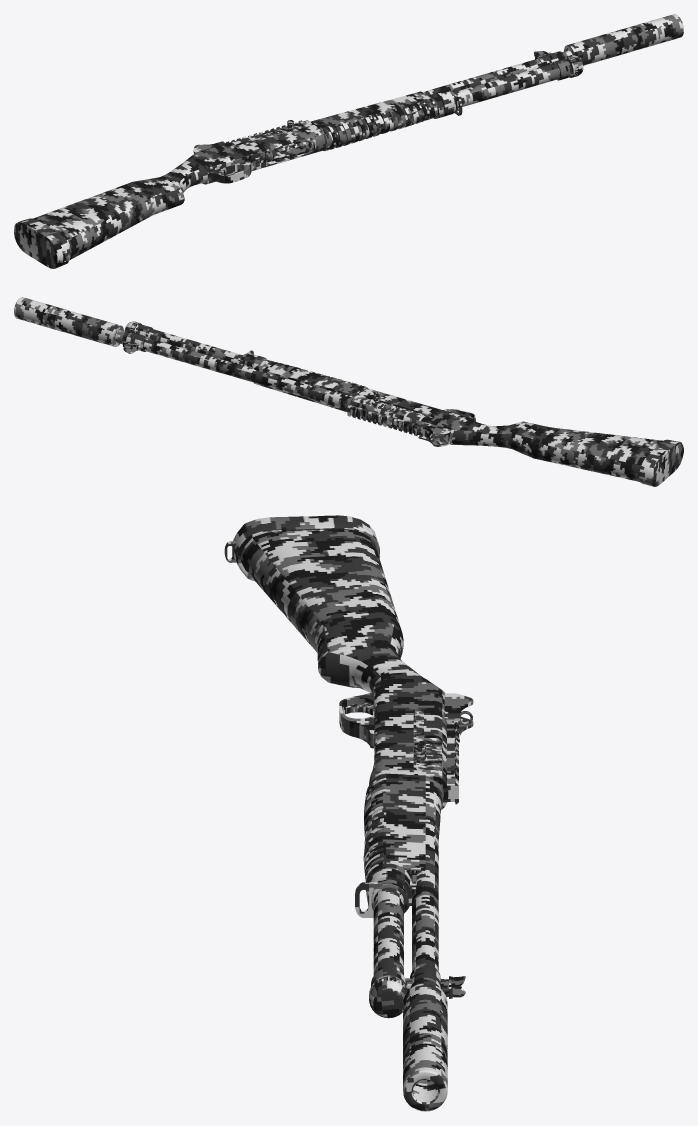
Rendered from SuppressedShotgun_World.dae.
The picture shows the model from 3 angles, top to bottom: view 1: azimuth 30°, elevation 25°; view 2: azimuth 150°, elevation 25°; view 3: azimuth 270°, elevation 25°; orthographic projection. The views are drawn at different scales.
Visible parts, largest first — view 1: Gun; view 2: Gun, Bolt; view 3: Gun, Bolt.
Part boxes in pixels (box(x1,y1,x2,y2)): Gun: box(14, 14, 683, 268); Gun: box(14, 297, 683, 486); Bolt: box(359, 392, 433, 417); Gun: box(224, 515, 473, 1111); Bolt: box(413, 711, 441, 771).
Size of the model in its own units: 1.97 by 0.3421 by 0.1589.
1 material, 1 textured.
